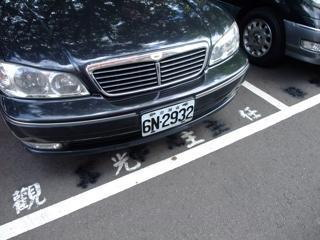plate: (139, 103, 195, 134)
